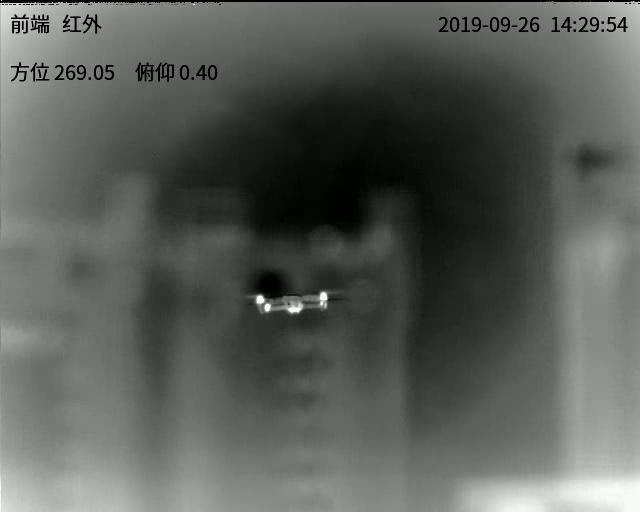DRONE: (255, 291, 331, 315)
